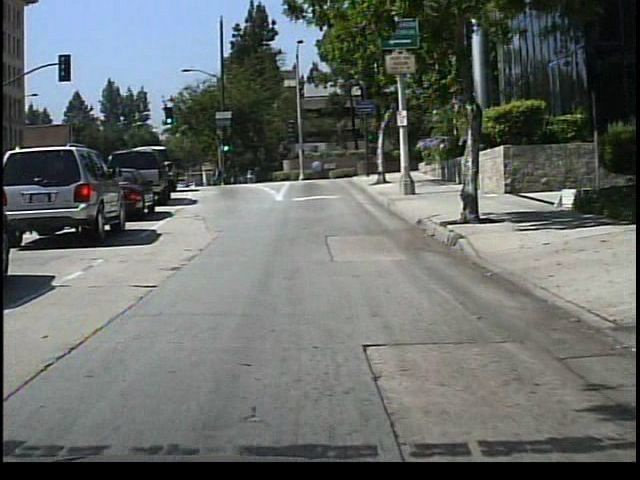person: (243, 164, 259, 188), (212, 164, 227, 188)
